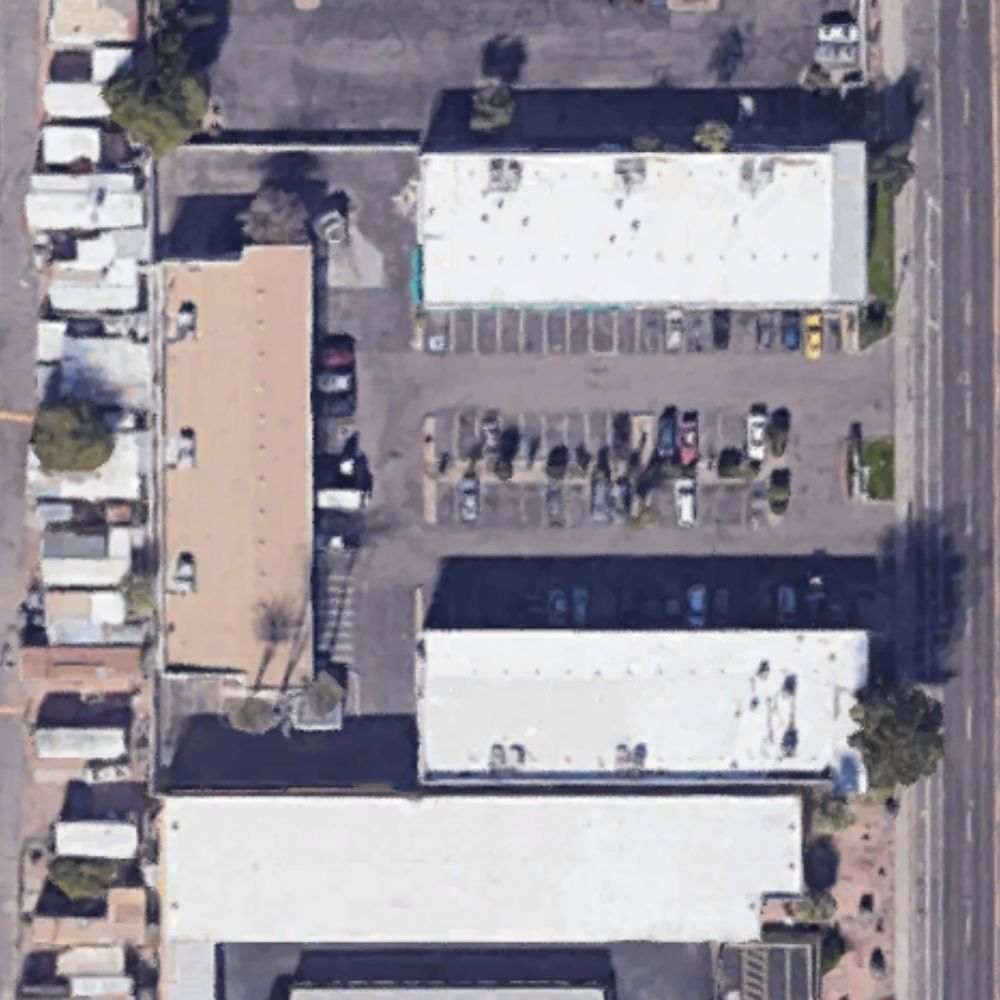parking: (315, 300, 895, 630)
